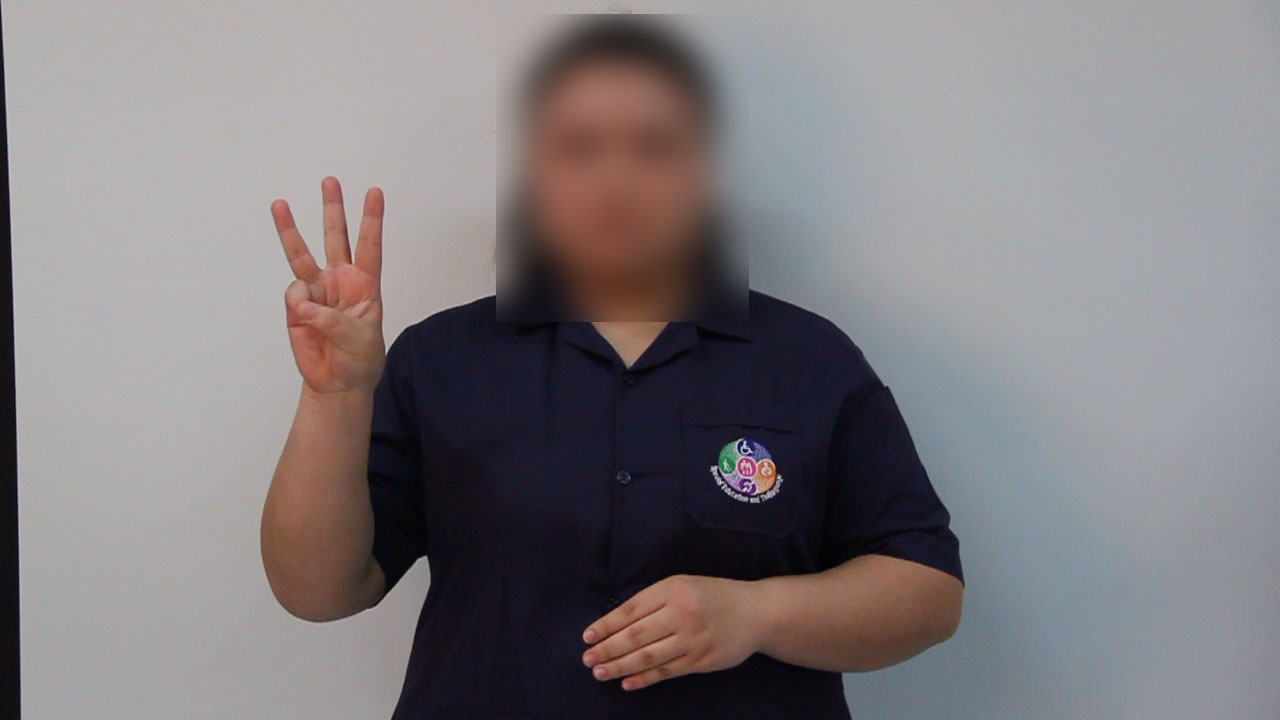wor: (260, 168, 398, 410)
